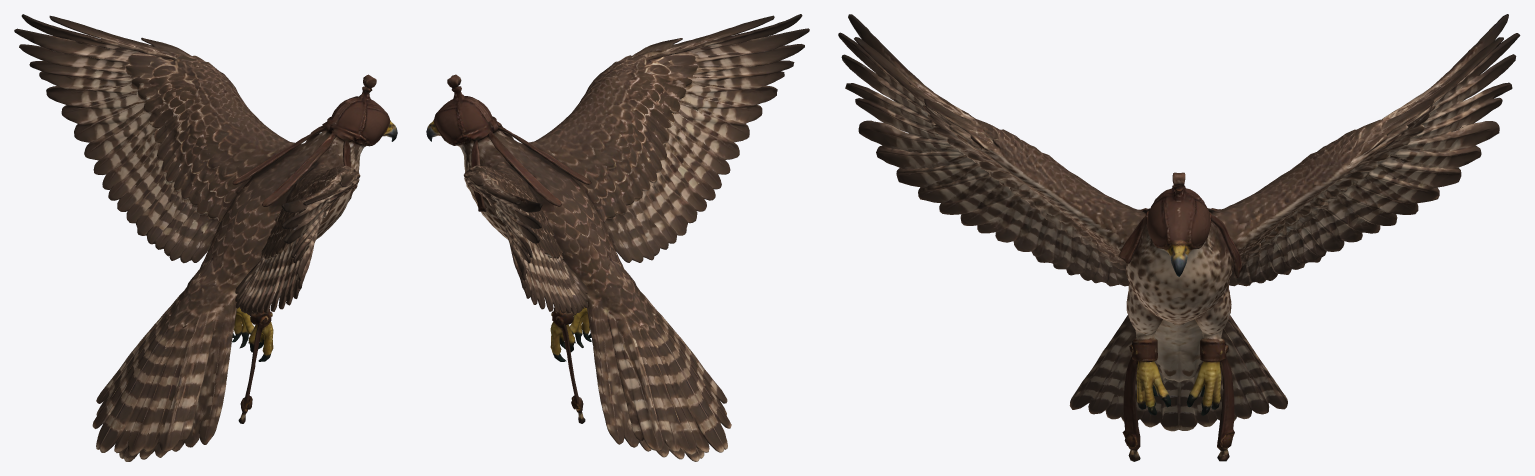
Rendered from falcon-tripo.glb.
3 renders of one model, left to right at view 1: azimuth 30°, elevation 25°; view 2: azimuth 150°, elevation 25°; view 3: azimuth 270°, elevation 25°, orthographic. The views are drawn at different scales.
Visible parts, largest first — view 1: tripo_node_5e947792-cd4d-42c5-a903-b21c5c6685e0; view 2: tripo_node_5e947792-cd4d-42c5-a903-b21c5c6685e0; view 3: tripo_node_5e947792-cd4d-42c5-a903-b21c5c6685e0.
Boxes of the visible parts, bbox=[...] form: tripo_node_5e947792-cd4d-42c5-a903-b21c5c6685e0: bbox=[14, 14, 397, 461]; tripo_node_5e947792-cd4d-42c5-a903-b21c5c6685e0: bbox=[426, 14, 809, 461]; tripo_node_5e947792-cd4d-42c5-a903-b21c5c6685e0: bbox=[838, 14, 1520, 461].
Size of the model in its own units: 0.639 by 0.7032 by 1.
Materials: 1 (1 with a texture image).
